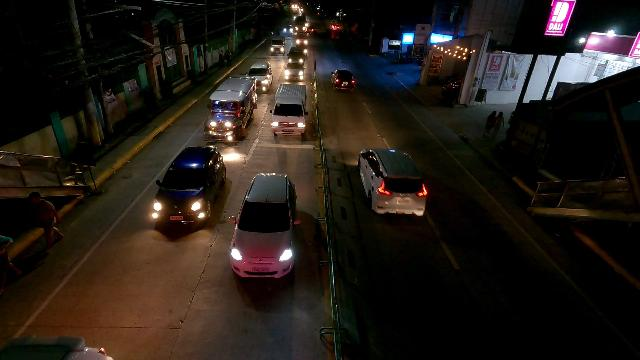car: (229, 173, 301, 277), (150, 145, 226, 228), (358, 148, 428, 215), (248, 61, 273, 90), (331, 69, 355, 90), (283, 60, 305, 82), (286, 48, 306, 67), (269, 38, 286, 55), (295, 34, 311, 50), (294, 14, 306, 25), (295, 23, 308, 32), (331, 23, 341, 32), (283, 25, 293, 33)
jeepney: (203, 75, 257, 142)
van: (270, 84, 308, 140)
